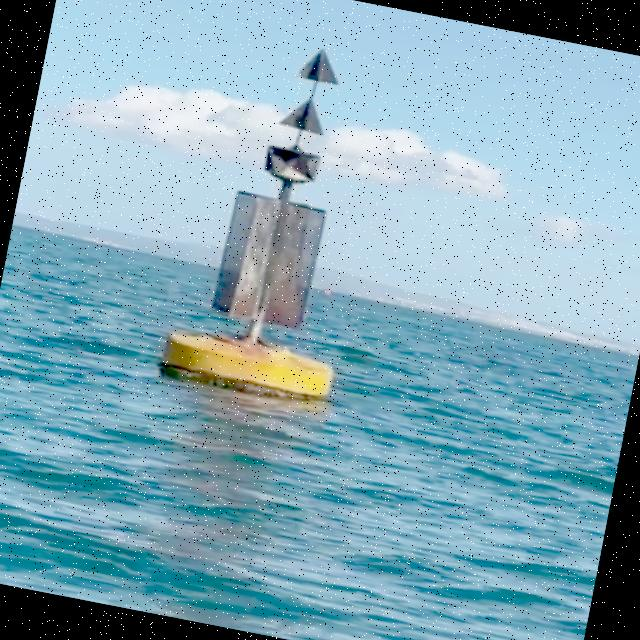marque: (171, 34, 398, 413)
